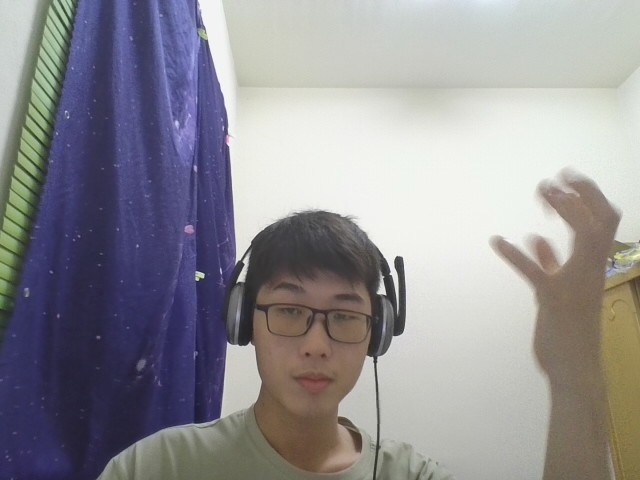No_Gloves: (484, 163, 621, 384)
No_Helmet: (225, 206, 405, 427)
person: (6, 195, 529, 480), (482, 155, 638, 479)
